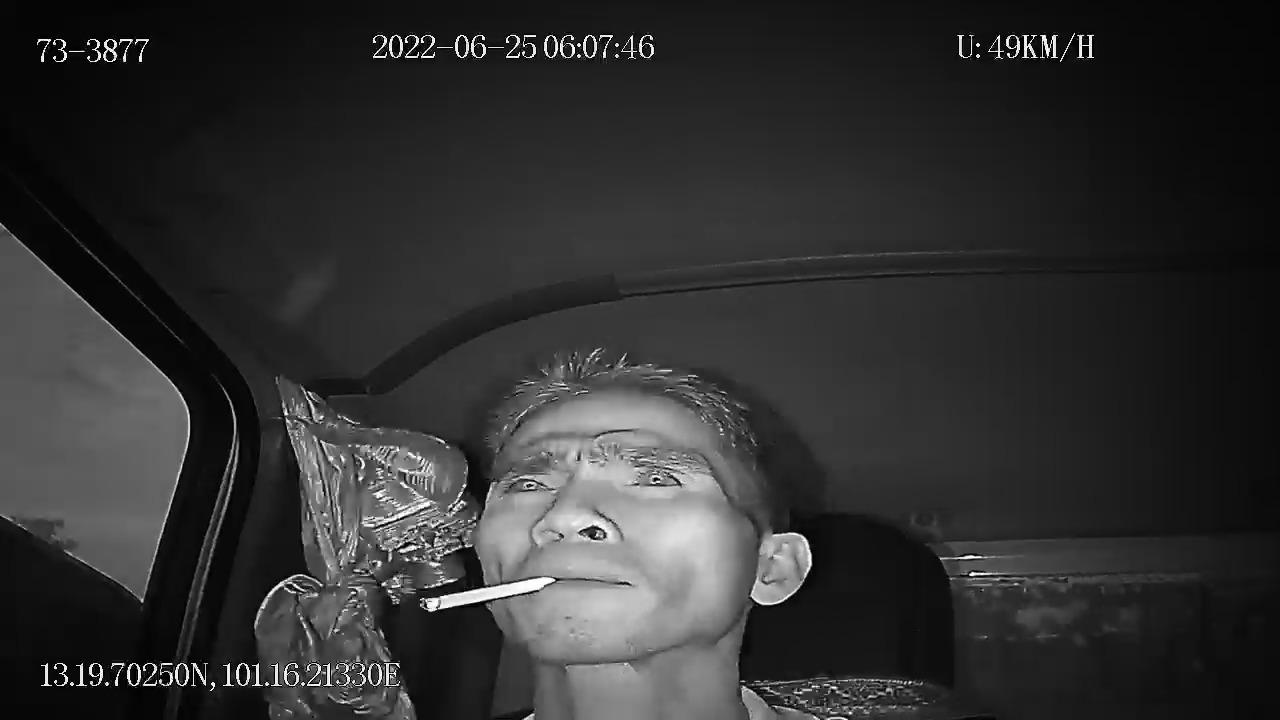Smoking: (398, 565, 587, 635)
